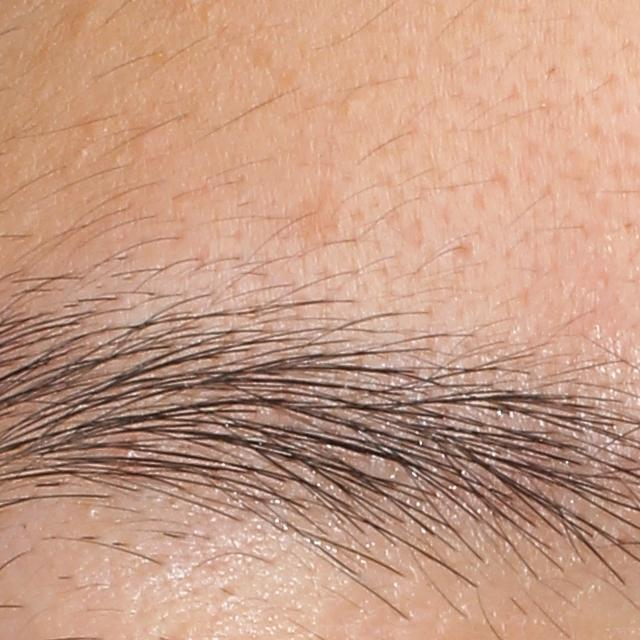comedo: (69, 7, 101, 34), (344, 92, 362, 117)
